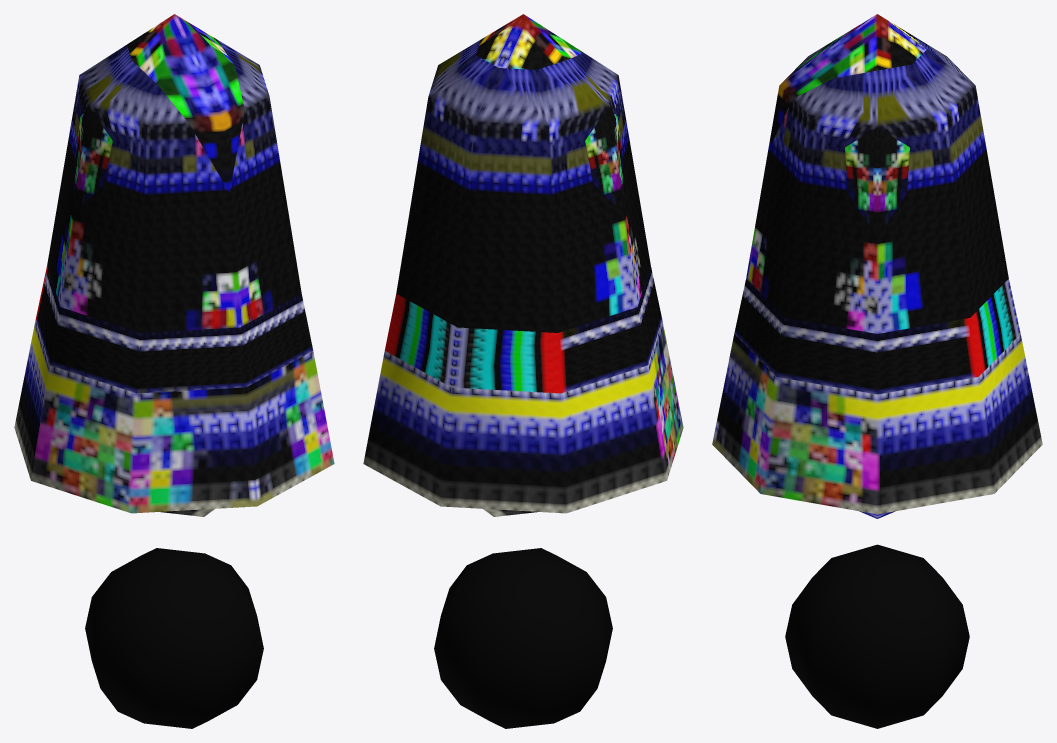
The model's file is cloth_link_model.glb.
The picture shows the model from 3 angles, left to right: view 1: azimuth 30°, elevation 25°; view 2: azimuth 150°, elevation 25°; view 3: azimuth 270°, elevation 25°; orthographic projection.
Parts seen in each view (by area): view 1: cloth_link_model; view 2: cloth_link_model; view 3: cloth_link_model.
Part boxes in pixels (box(x1,y1,x2,y2)): cloth_link_model: box(14, 14, 334, 728); cloth_link_model: box(363, 14, 683, 728); cloth_link_model: box(712, 14, 1042, 728).
Size of the model in its own units: 36.62 by 86.34 by 36.62.
1 material, 1 textured.
